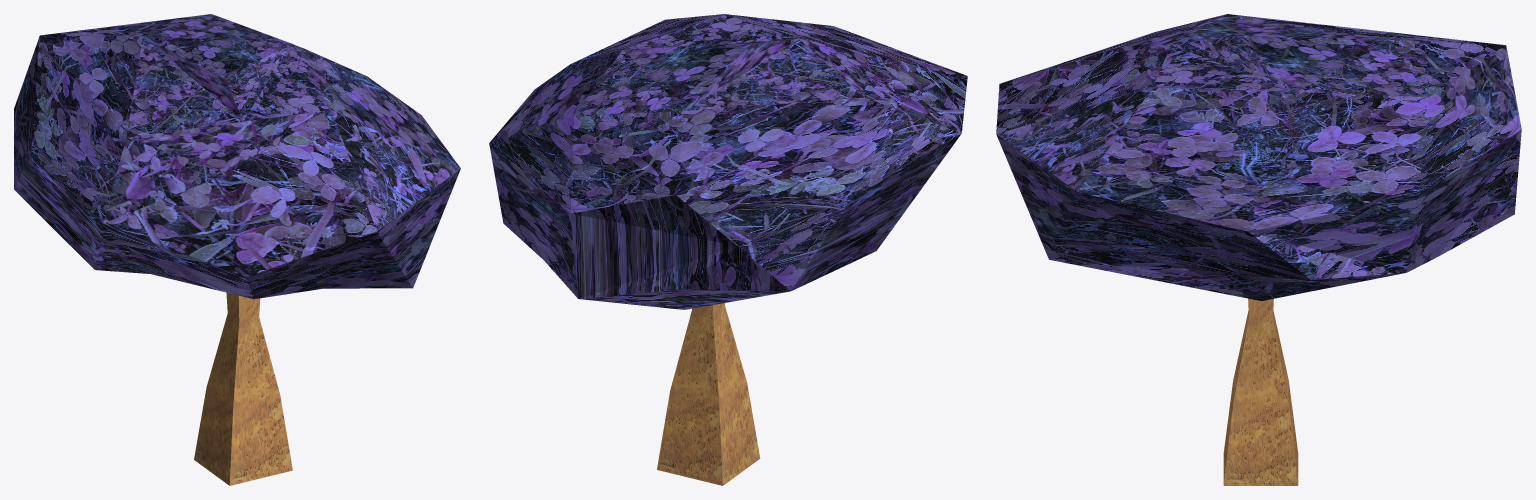
The model's file is TreeLarge.fbx.
The picture shows the model from 3 angles, left to right: view 1: azimuth 30°, elevation 25°; view 2: azimuth 150°, elevation 25°; view 3: azimuth 270°, elevation 25°; orthographic projection. The views are drawn at different scales.
Parts seen in each view (by area): view 1: GeoSphere001, Box001; view 2: GeoSphere001, Box001; view 3: GeoSphere001, Box001.
Part boxes in pixels (box(x1,y1,x2,y2)): GeoSphere001: box(14, 14, 460, 299); Box001: box(194, 292, 292, 485); GeoSphere001: box(489, 14, 967, 309); Box001: box(657, 303, 760, 485); GeoSphere001: box(996, 14, 1521, 300); Box001: box(1223, 298, 1298, 485).
Bounding box in the file's own units: 47.92 × 50.55 × 57.44.
